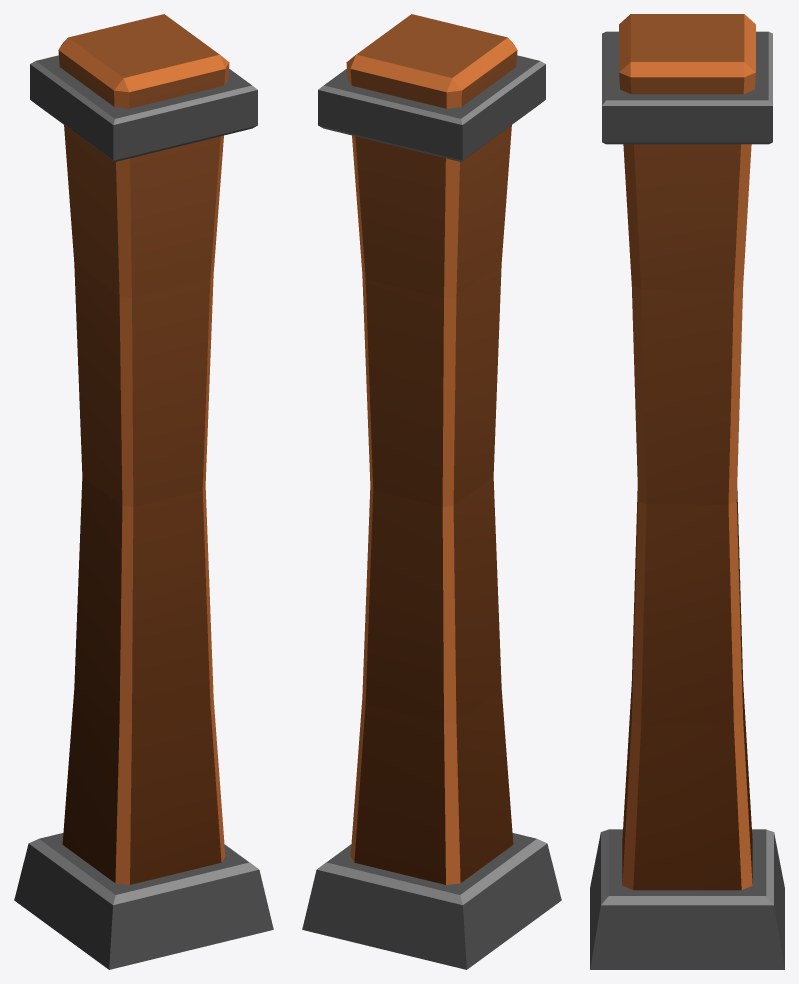
The model's file is pillar_01.fbx.
3 views of the same model, side by side, from view 1: azimuth 30°, elevation 25°; view 2: azimuth 150°, elevation 25°; view 3: azimuth 270°, elevation 25° (orthographic). The views are drawn at different scales.
Visible parts, largest first — view 1: Cube.008; view 2: Cube.008; view 3: Cube.008.
Part boxes in pixels (x1,y1,x2,y2): Cube.008: (14, 14, 273, 969); Cube.008: (302, 14, 561, 969); Cube.008: (590, 14, 784, 969).
Size of the model in its own units: 0.5927 by 2.99 by 0.5927.
